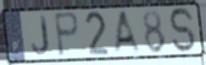2: (85, 10, 110, 56)
8: (141, 8, 168, 55)
A: (112, 9, 145, 55)
J: (30, 14, 51, 57)
P: (52, 10, 81, 58)
S: (167, 6, 199, 55)
